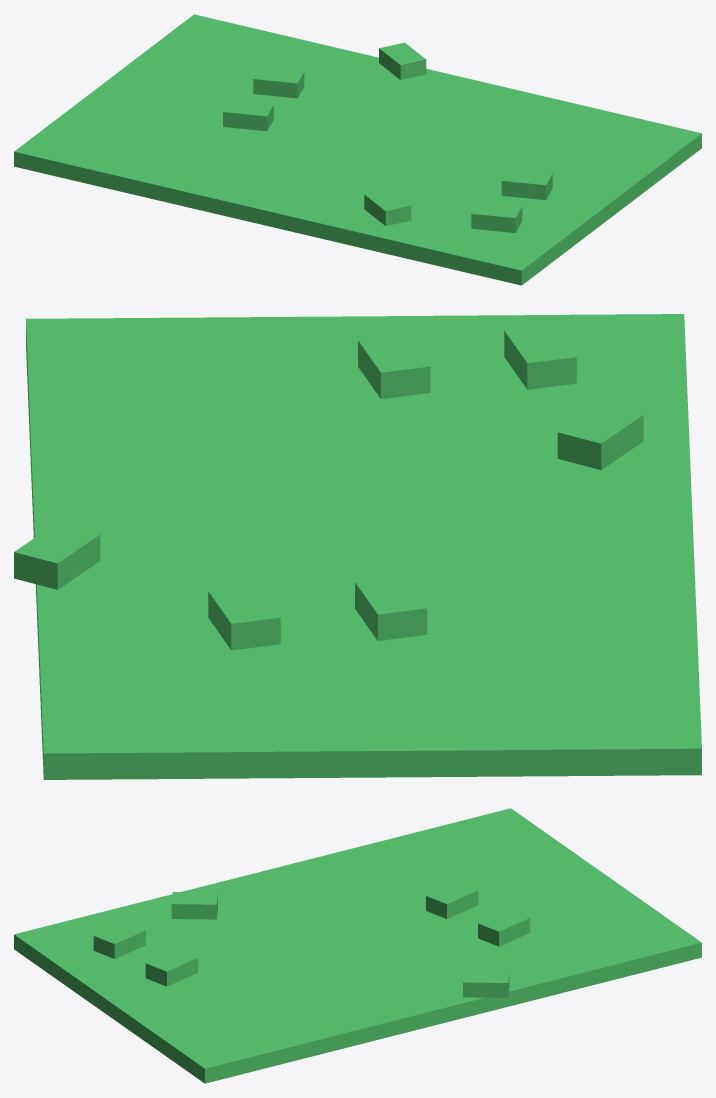
The model's file is karuizawa1.obj.
3 renders of one model, top to bottom at view 1: azimuth 30°, elevation 25°; view 2: azimuth 150°, elevation 25°; view 3: azimuth 270°, elevation 25°, orthographic. The views are drawn at different scales.
Visible parts, largest first — view 1: Cube.003, Cube, Cube.004, Cube.005, Cube.001, Cube.002, Cube.006; view 2: Cube.003, Cube.006, Cube.002, Cube.005, Cube, Cube.001, Cube.004; view 3: Cube.003, Cube.004, Cube, Cube.001, Cube.005, Cube.002, Cube.006.
Part boxes in pixels (x1,y1,x2,y2): Cube.003: (14, 14, 701, 285); Cube: (253, 67, 304, 98); Cube.004: (501, 169, 552, 200); Cube.005: (471, 202, 522, 232); Cube.001: (223, 100, 273, 131); Cube.002: (379, 42, 426, 79); Cube.006: (364, 188, 411, 225); Cube.003: (26, 314, 701, 779); Cube.006: (557, 403, 643, 469); Cube.002: (14, 523, 100, 589); Cube.005: (504, 324, 576, 389); Cube: (208, 585, 280, 650); Cube.001: (355, 576, 427, 640); Cube.004: (358, 334, 430, 399); Cube.003: (14, 808, 701, 1083); Cube.004: (145, 949, 197, 986); Cube: (478, 909, 530, 946); Cube.001: (426, 882, 478, 918); Cube.005: (93, 922, 145, 958); Cube.002: (463, 970, 509, 997); Cube.006: (171, 892, 217, 919).
Bounding box in the file's own units: 153 × 8.22 × 171.
